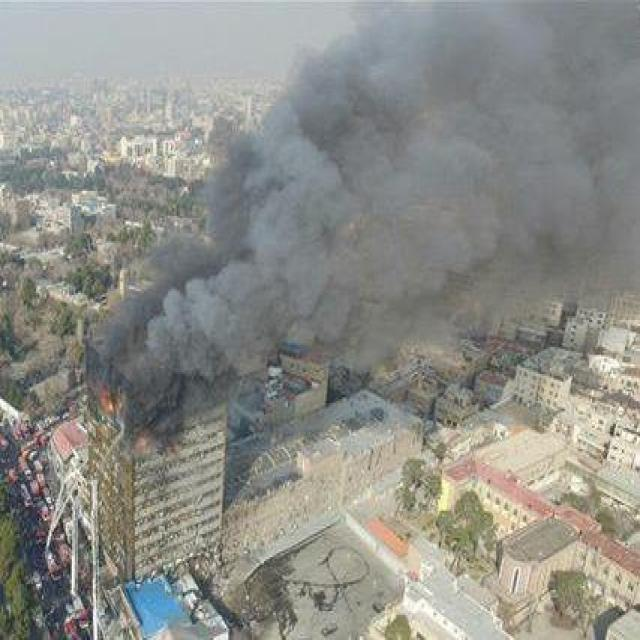Fire: (92, 387, 123, 440), (54, 420, 84, 458)
Smoke: (280, 4, 640, 262), (139, 150, 462, 398)
